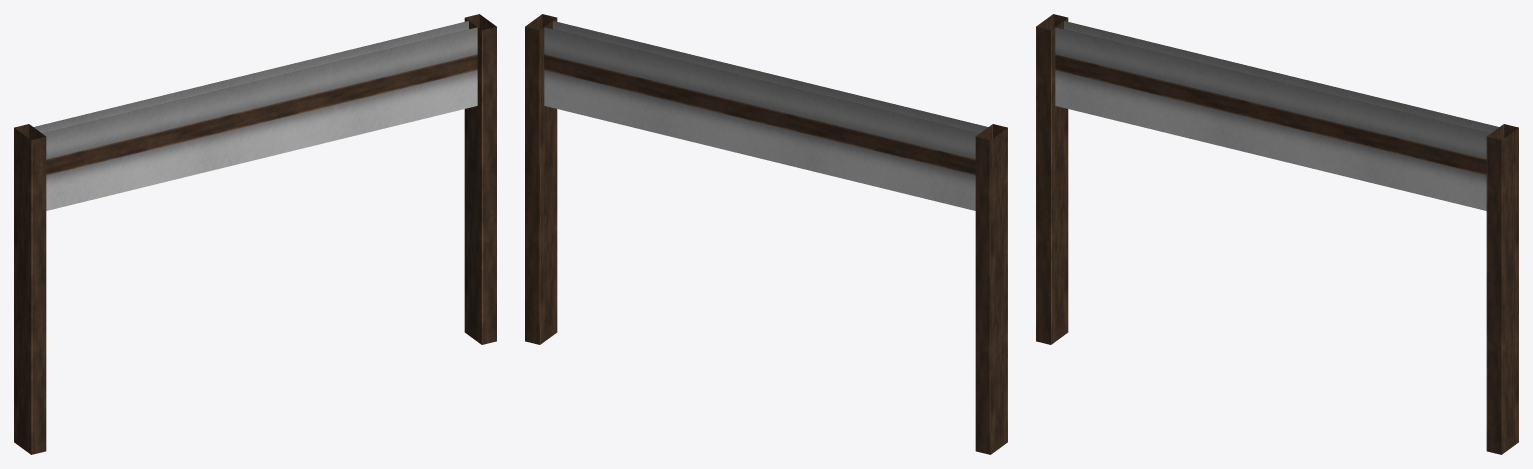
Rendered from house_enterance_6.fbx.
3 views of the same model, side by side, from view 1: azimuth 30°, elevation 25°; view 2: azimuth 150°, elevation 25°; view 3: azimuth 330°, elevation 25° (orthographic).
Visible parts, largest first — view 1: house_enterance_6; view 2: house_enterance_6; view 3: house_enterance_6.
Boxes of the visible parts, x1,y1,x2,y2 form: house_enterance_6: [14, 14, 496, 454]; house_enterance_6: [525, 14, 1007, 454]; house_enterance_6: [1036, 14, 1518, 454].
Size of the model in its own units: 619 by 400 by 40.
